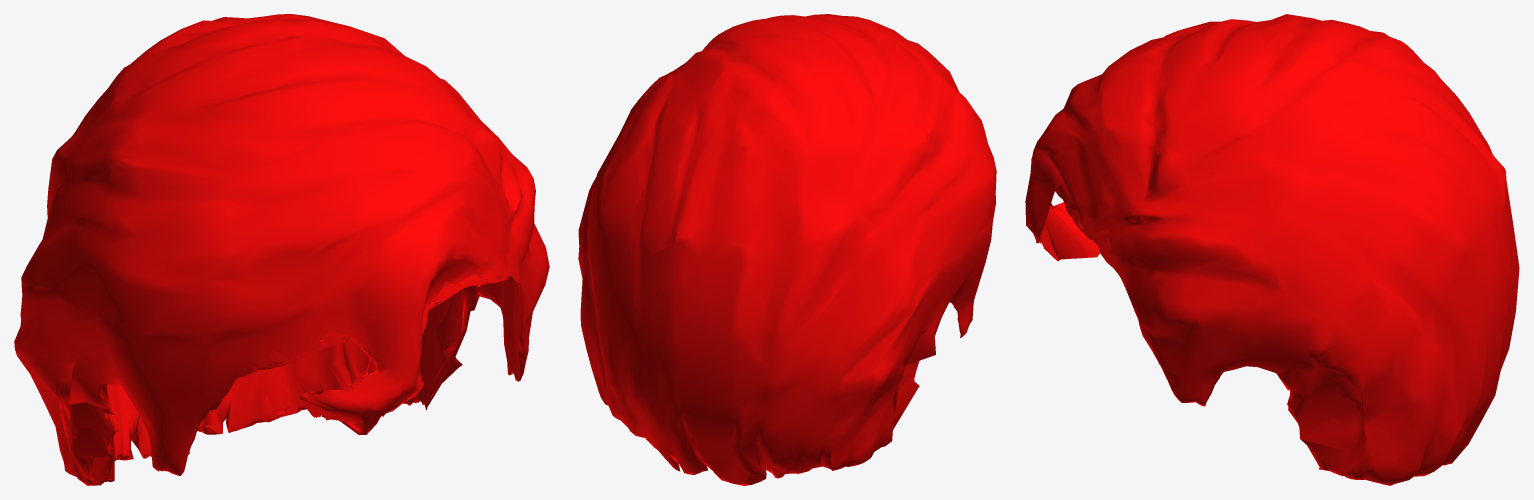
File: culturalibre_hair_14_M.glb
The picture shows the model from 3 angles, left to right: view 1: azimuth 30°, elevation 25°; view 2: azimuth 150°, elevation 25°; view 3: azimuth 270°, elevation 25°; orthographic projection. The views are drawn at different scales.
Bounding box in the file's own units: 0.194 × 0.2049 × 0.2218.
1 material, 1 textured.
